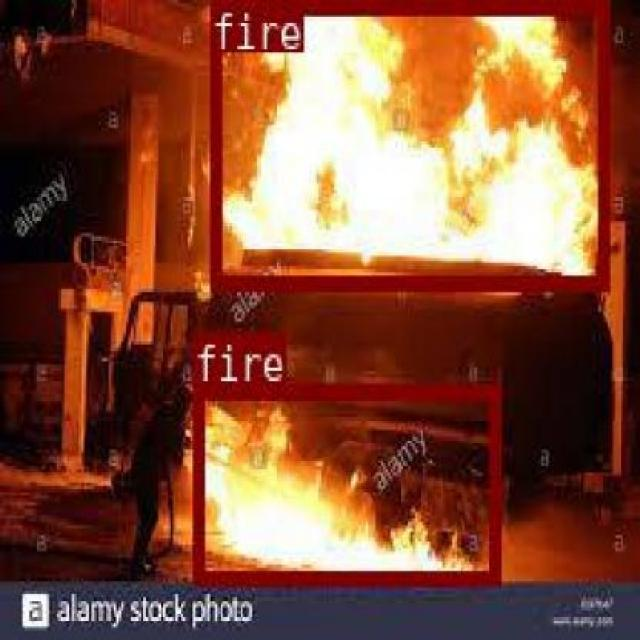Fire: (208, 0, 608, 286), (192, 383, 499, 583)
